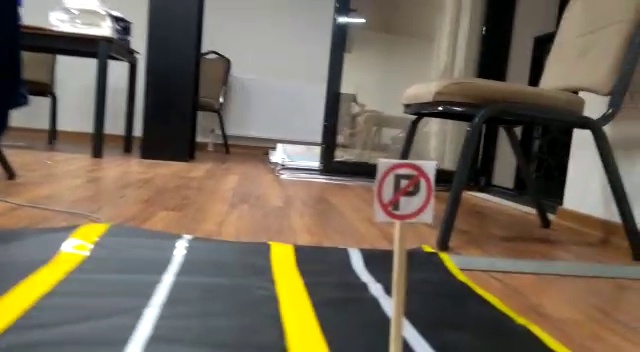park_yapilmaz: (378, 157, 439, 226)
